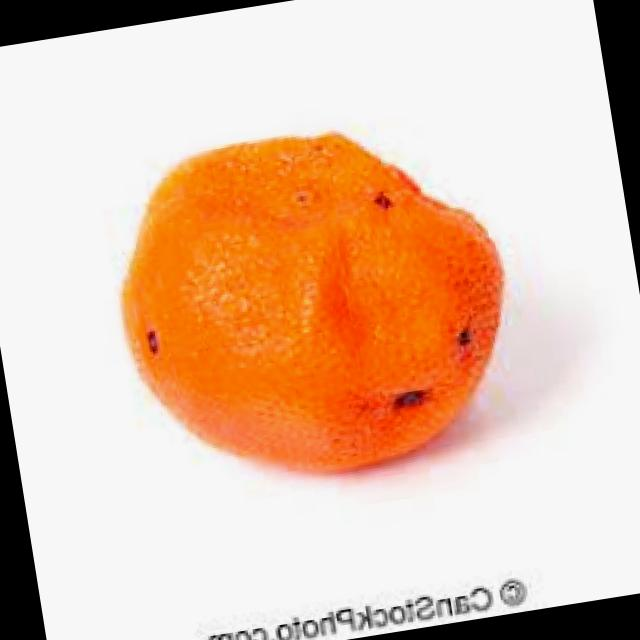Rotten_Orange: (69, 75, 546, 522)
